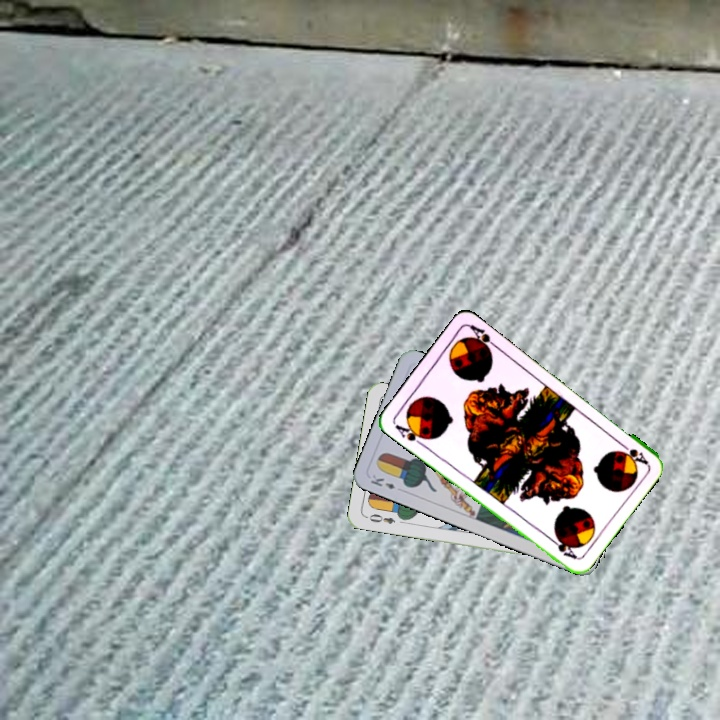EK: (367, 470, 398, 492)
EO: (362, 510, 398, 527)
SA: (391, 419, 430, 449), (615, 438, 650, 467)
